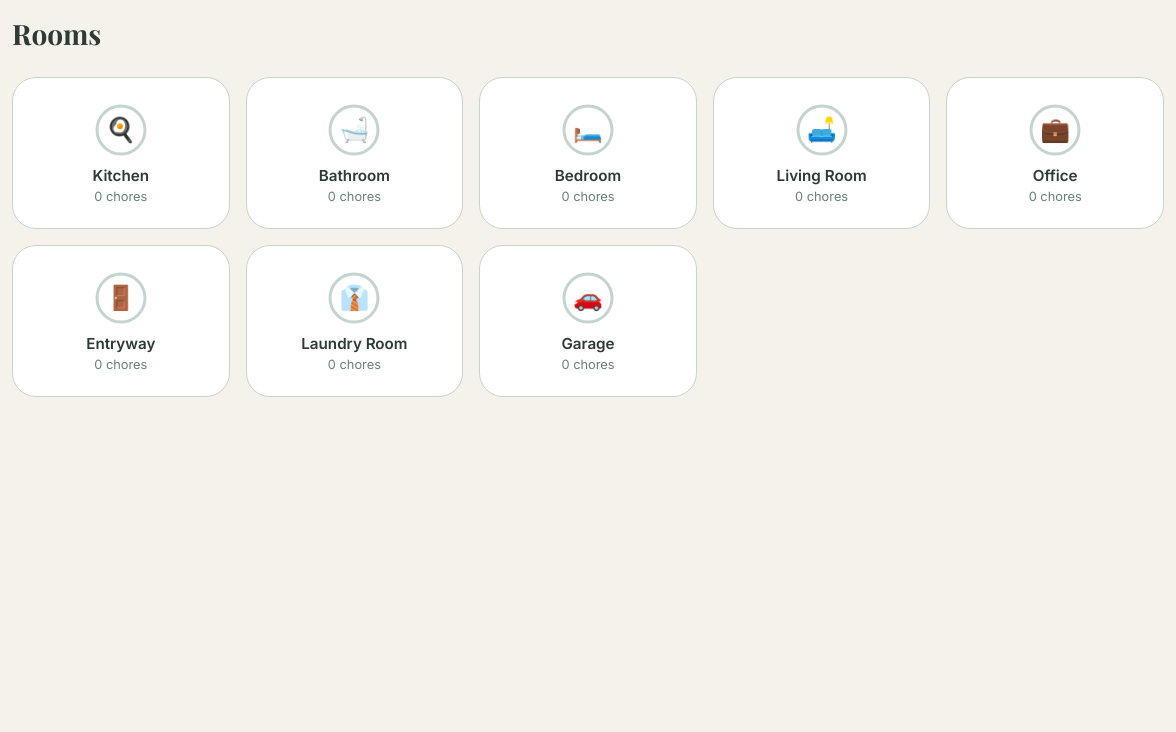
Test: Rooms › room selection › shows room detail panel after clicking a room
Click the button "🍳 Kitchen 0 chores".
click(121, 153)  # box [12,77,230,229]
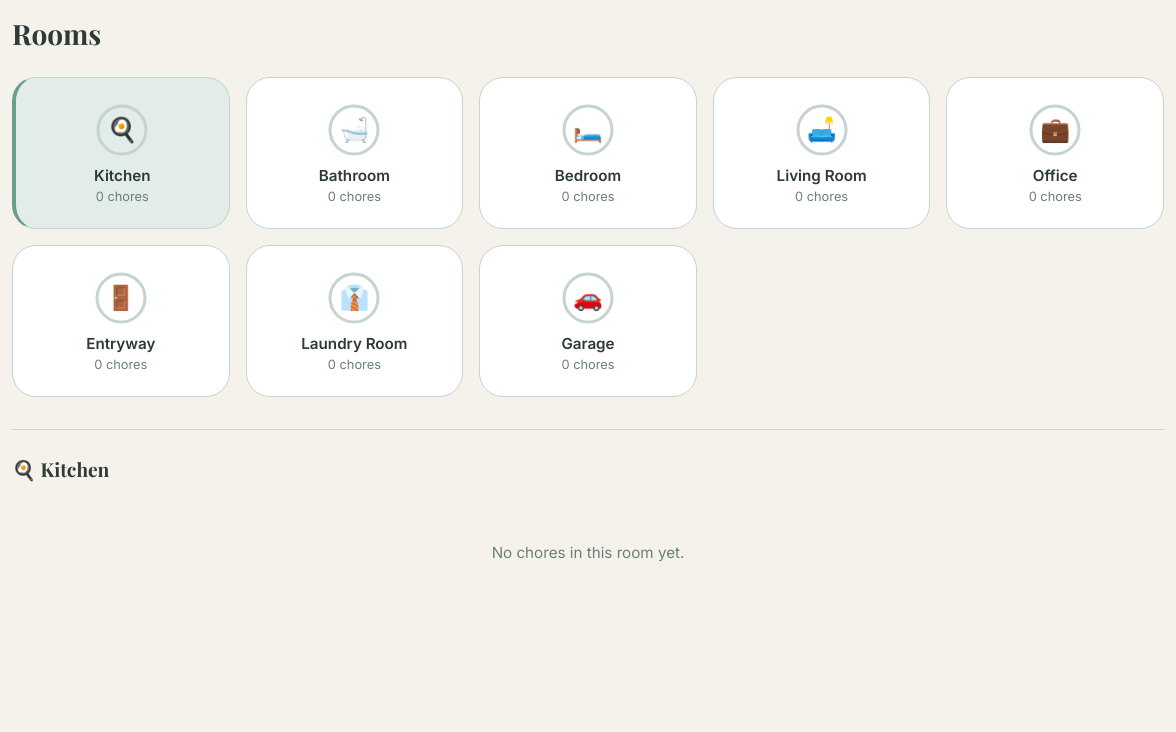
Result: the element with class "room-detail" is shown at [12,429,1164,605]
